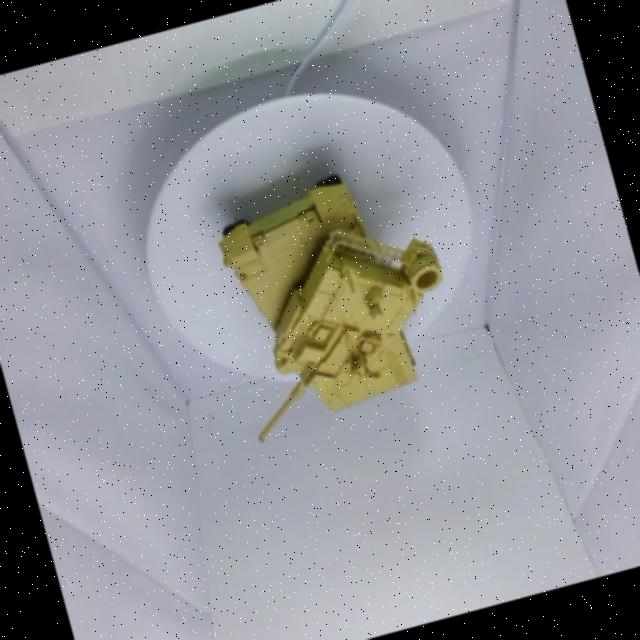korea tank: (117, 130, 511, 499)
